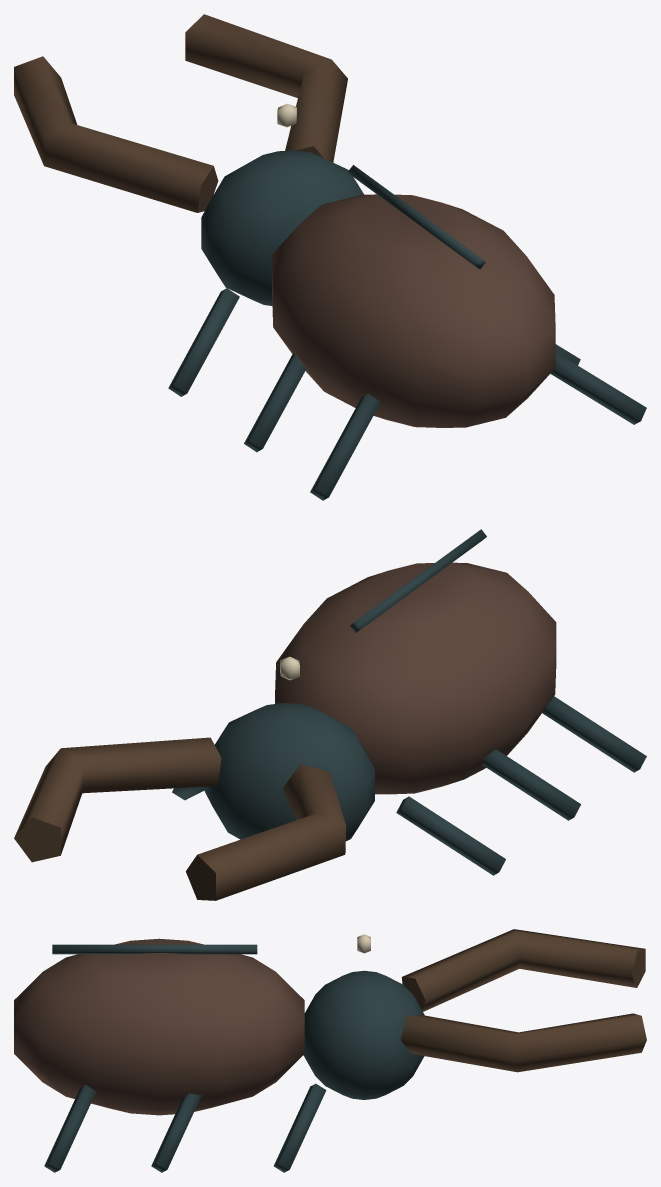
File: insect_stag_beetle.glb
3 views of the same model, one above another, from view 1: azimuth 30°, elevation 25°; view 2: azimuth 150°, elevation 25°; view 3: azimuth 270°, elevation 25° (orthographic). The views are drawn at different scales.
Bounding box in the file's own units: 0.101 × 0.064 × 0.207.
